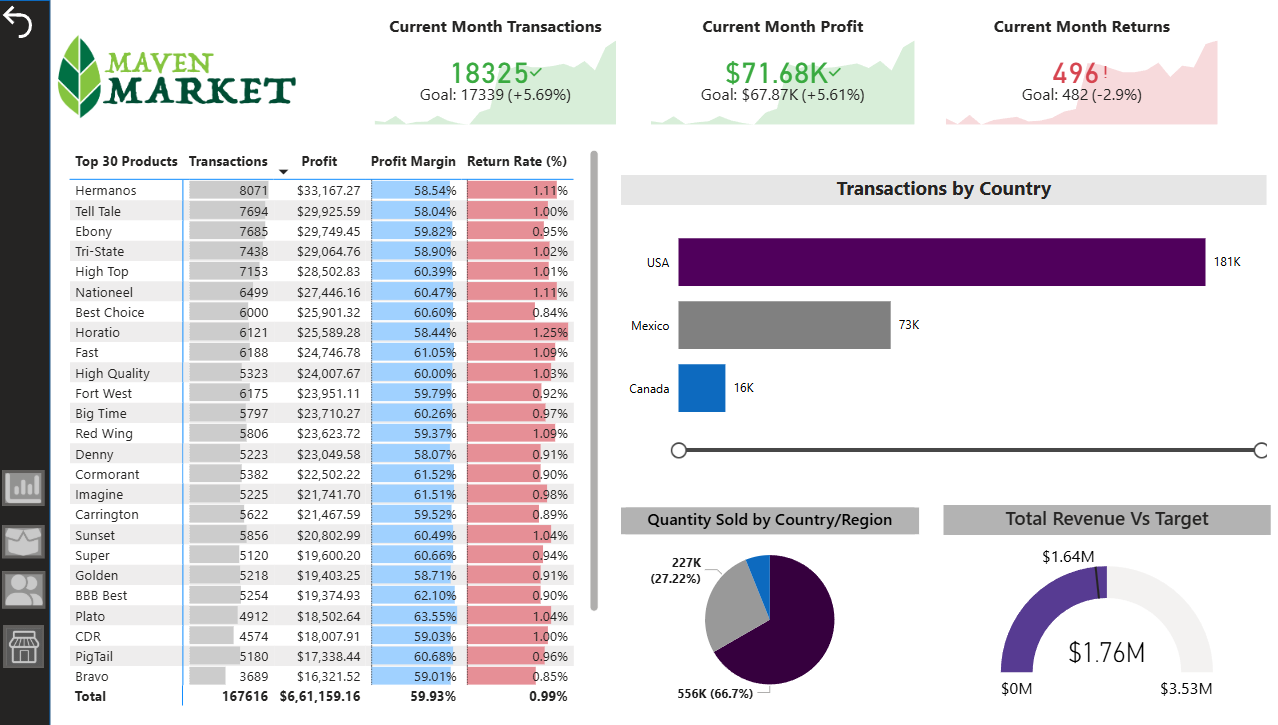

Layout of this report page (visuals, bound fields, positions):
{"tool":"powerbi","page":{"name":"Topline Performance'","canvas":[1280,720],"ordinal":0},"visuals":[{"type":"image","box":[54.2,21.7,246.1,106.8],"z":0},{"type":"pivotTable","fields":{"Rows":["Products_lookup.product_brand"],"Values":["Measure.Total Transactions","Measure.Total Profit","Measure.Profit Margin","Measure.Return Rate"]},"box":[67.8,142.8,532.4,558.3],"z":1000},{"type":"shape","box":[0,0,53.8,720.2],"z":2000},{"type":"kpi","title":"Current Month Transactions","fields":{"Goal":["Measure.Previous Month Transactions"],"Indicator":["Measure.Total Transactions"],"TrendLine":["Calendar.Start of Month"]},"box":[369.4,14.1,248.4,114.8],"z":3000},{"type":"kpi","title":"Current Month Profit","fields":{"Goal":["Measure.Previous Month Profit"],"Indicator":["Measure.Total Profit"],"TrendLine":["Calendar.Start of Month"]},"box":[641.4,14.1,270.4,114.8],"z":4000},{"type":"kpi","title":"Current Month Returns","fields":{"Goal":["Measure.Previous Month Returns"],"Indicator":["Measure.Total Returns"],"TrendLine":["Calendar.Start of Month"]},"box":[933.8,14.1,278.3,114.8],"z":5000},{"type":"gauge","title":"Total Revenue Vs Target","fields":{"TargetValue":["Measure.Previous Month Revenue"],"Y":["Measure.Total Revenue"]},"box":[936.4,499.2,323.2,202],"z":6000},{"type":"clusteredBarChart","title":" Transactions by Country","fields":{"Category":["Stores.Country/Region"],"Y":["Measure.Total Transactions"]},"box":[617.5,173.1,637.7,282.8],"z":7000},{"type":"pieChart","fields":{"Category":["Stores.Country/Region"],"Y":["Measure.Quantity Sold"]},"box":[617.5,500.6,294.3,200.5],"z":8000},{"type":"actionButton","box":[0,0,67.3,42.8],"z":9000},{"type":"actionButton","box":[6.1,464.7,41.6,35.5],"z":9002},{"type":"actionButton","box":[6.1,518.5,41.6,33],"z":9003},{"type":"actionButton","box":[6.1,563.7,42.8,36.7],"z":9004},{"type":"actionButton","box":[7.3,617.5,40.4,42.8],"z":9005}]}

Visuals, with their boxes on the page's 1280x720 design canvas (x1, y1, x2, y2). These are canvas units, not pixel positions in the 1278x725 screenshot, which may show the page scaled, cropped or inside an application window:
image: [54,22,300,128]
pivotTable - Products_lookup.product_brand x Measure.Total Transactions: [68,143,600,701]
shape: [0,0,54,720]
"Current Month Transactions" kpi: [369,14,618,129]
"Current Month Profit" kpi: [641,14,912,129]
"Current Month Returns" kpi: [934,14,1212,129]
"Total Revenue Vs Target" gauge: [936,499,1260,701]
" Transactions by Country" clusteredBarChart: [618,173,1255,456]
pieChart - Stores.Country/Region x Measure.Quantity Sold: [618,501,912,701]
actionButton: [0,0,67,43]
actionButton: [6,465,48,500]
actionButton: [6,518,48,552]
actionButton: [6,564,49,600]
actionButton: [7,618,48,660]
